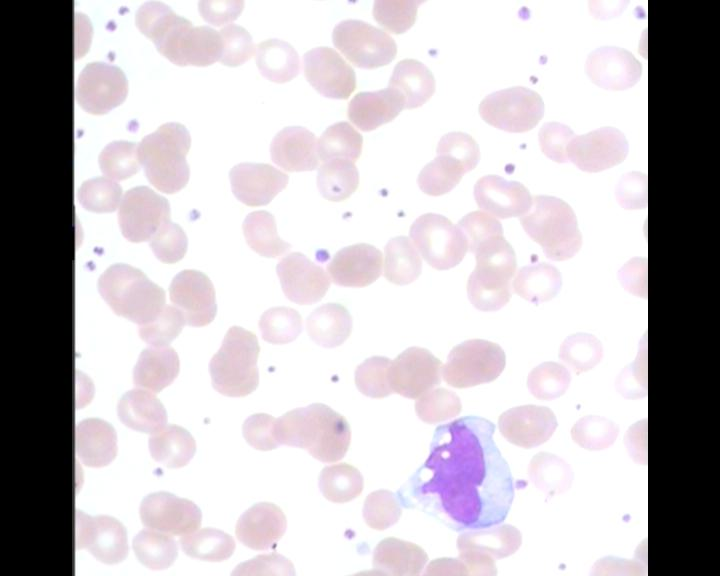mono: (395, 412, 516, 531)
